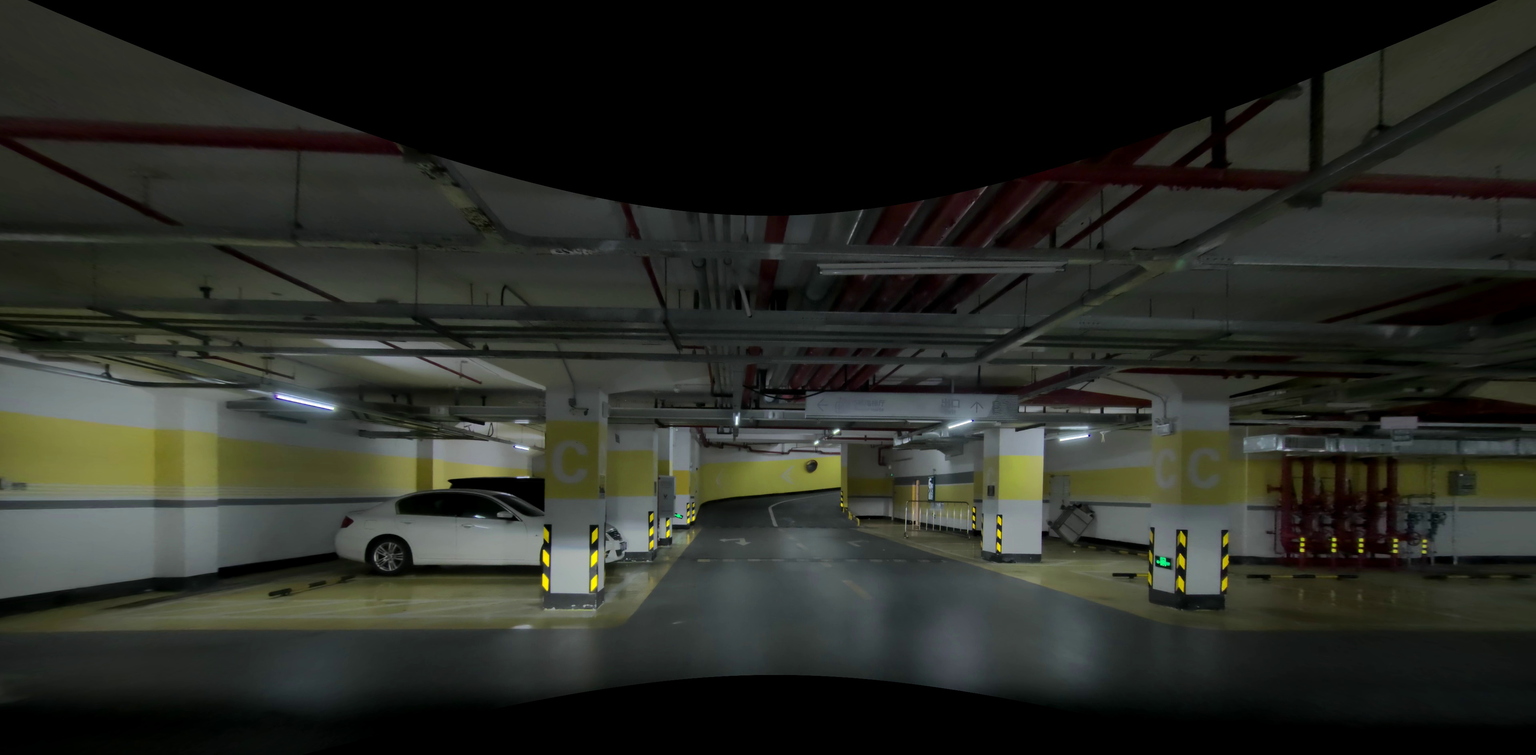B1: (991, 401, 1010, 414)
C: (550, 438, 590, 483), (1189, 447, 1219, 489), (1152, 447, 1180, 489), (985, 467, 996, 489)
exits: (1154, 555, 1172, 568), (673, 514, 684, 520)
上: (968, 399, 983, 413)
出口: (938, 397, 960, 409)
右: (845, 537, 870, 548)
左: (812, 397, 829, 411)
左下: (720, 536, 749, 545)
电梯厅: (862, 399, 884, 409)
